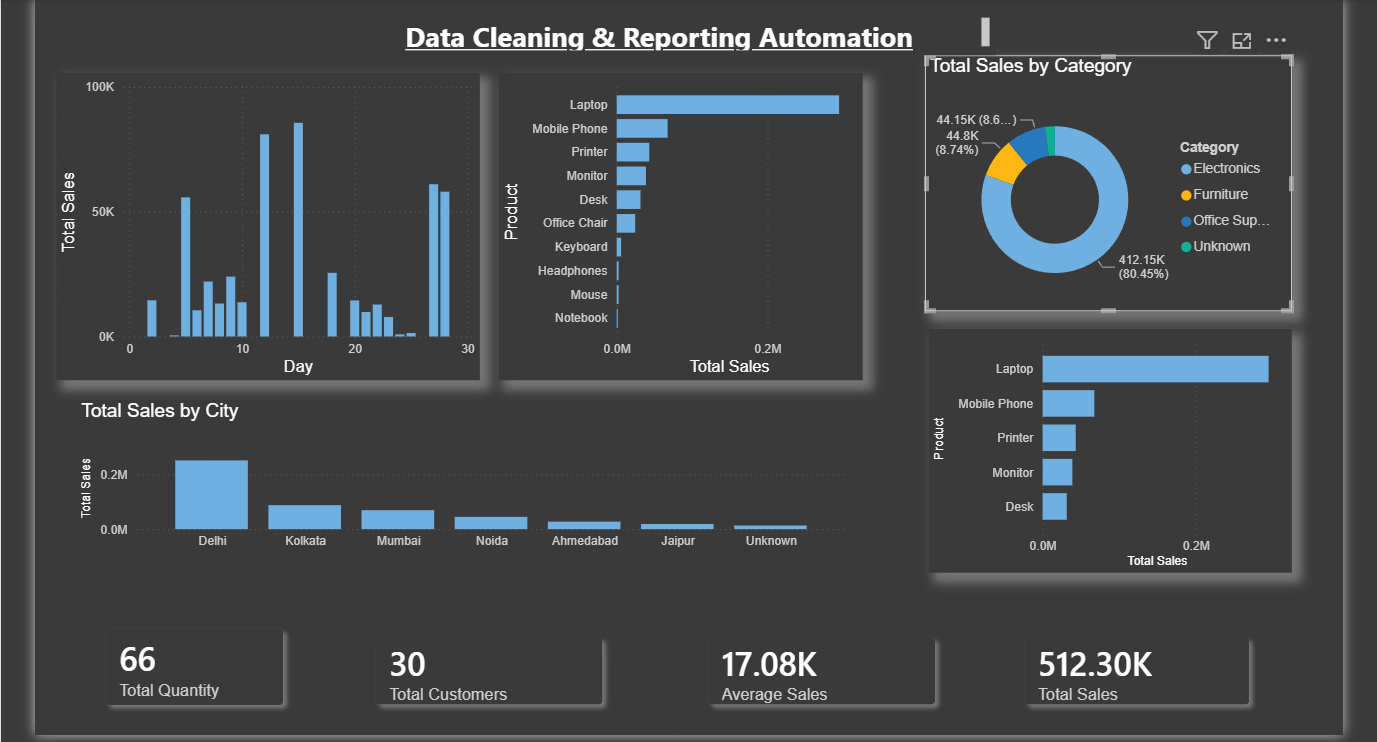

What the dashboard file says about the page in this screenshot:
{"tool":"powerbi","page":{"name":"Page 1","canvas":[1280,720],"ordinal":0},"visuals":[{"type":"cardVisual","fields":{"Data":["Sales.Total Sales"]},"box":[939.1,595.5,278.8,124.7],"z":0},{"type":"cardVisual","fields":{"Data":["Sales.Total Quantity"]},"box":[40.4,587,232.3,133.3],"z":1},{"type":"cardVisual","fields":{"Data":["Sales.Average Sales"]},"box":[629.8,595.5,280,124.7],"z":2},{"type":"cardVisual","fields":{"Data":["Sales.Total Customers"]},"box":[304.5,595.5,280,124.7],"z":3},{"type":"lineStackedColumnComboChart","fields":{"Category":["Sales.Date.Variation.Date Hierarchy.Day"],"Y":["Sales.Total Sales"]},"box":[20.8,72.1,414.5,300.8],"z":4},{"type":"clusteredBarChart","fields":{"Category":["Sales.Product"],"Y":["Sales.Total Sales"]},"box":[453.7,72.1,355.8,300.8],"z":5},{"type":"donutChart","fields":{"Category":["Sales.Category"],"Y":["Sales.Total Sales"]},"box":[870.7,55,359.5,250.7],"z":6},{"type":"columnChart","fields":{"Category":["Sales.City"],"Y":["Sales.Total Sales"]},"box":[40.4,392.5,758.2,154.1],"z":7},{"type":"barChart","fields":{"Category":["Sales.Product"],"Y":["Sales.Total Sales"]},"box":[874.3,322.8,355.4,238.8],"z":8},{"type":"textbox","box":[357.1,13.5,582.1,41.6],"z":9}]}

Visuals, with their boxes on the page's 1280x720 design canvas (x1, y1, x2, y2). These are canvas units, not pixel positions in the 1377x742 screenshot, which may show the page scaled, cropped or inside an application window:
cardVisual - Sales.Total Sales: (939, 596, 1218, 720)
cardVisual - Sales.Total Quantity: (40, 587, 273, 720)
cardVisual - Sales.Average Sales: (630, 596, 910, 720)
cardVisual - Sales.Total Customers: (304, 596, 584, 720)
lineStackedColumnComboChart - Sales.Date.Variation.Date Hierarchy.Day x Sales.Total Sales: (21, 72, 435, 373)
clusteredBarChart - Sales.Product x Sales.Total Sales: (454, 72, 810, 373)
donutChart - Sales.Category x Sales.Total Sales: (871, 55, 1230, 306)
columnChart - Sales.City x Sales.Total Sales: (40, 392, 799, 547)
barChart - Sales.Product x Sales.Total Sales: (874, 323, 1230, 562)
textbox: (357, 14, 939, 55)
